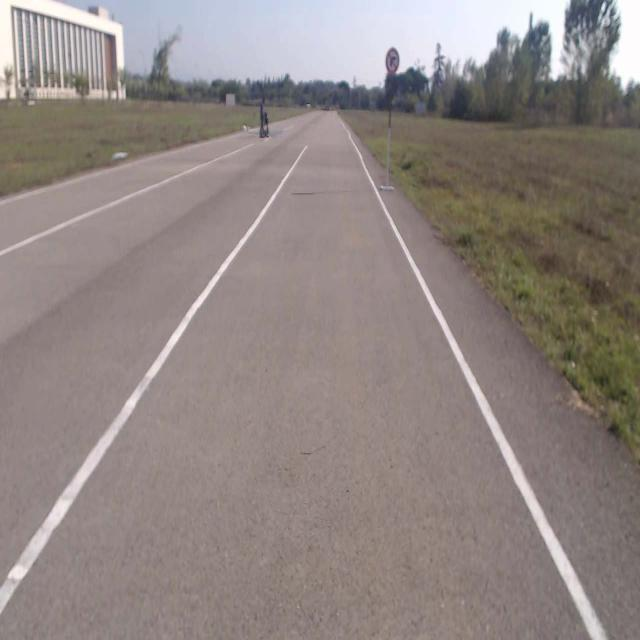sagadonulmez: (385, 48, 399, 72)
